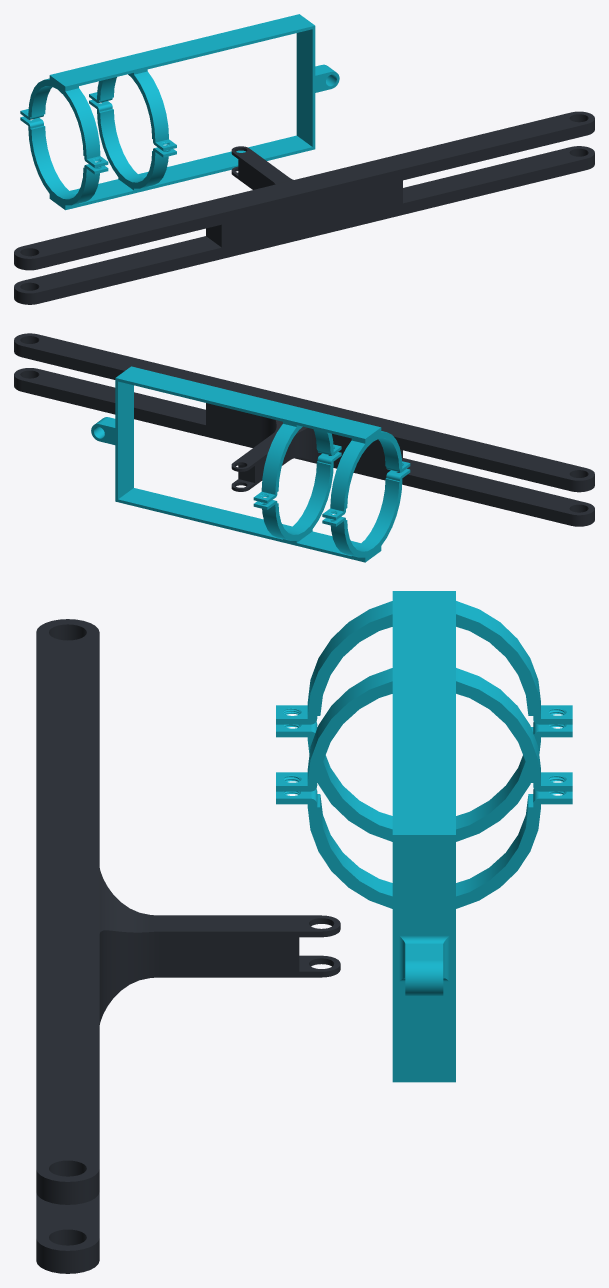
Rendered from Flashlight Drone Propeller Bracket Segmented.glb.
The picture shows the model from 3 angles, top to bottom: view 1: azimuth 30°, elevation 25°; view 2: azimuth 150°, elevation 25°; view 3: azimuth 270°, elevation 25°; orthographic projection. The views are drawn at different scales.
Parts seen in each view (by area): view 1: Flashlight Drone Propeller Bracket Segmented; view 2: Flashlight Drone Propeller Bracket Segmented; view 3: Flashlight Drone Propeller Bracket Segmented.
Part boxes in pixels (x1=…): Flashlight Drone Propeller Bracket Segmented: x1=14, y1=14, x2=594, y2=304; Flashlight Drone Propeller Bracket Segmented: x1=14, y1=333, x2=594, y2=562; Flashlight Drone Propeller Bracket Segmented: x1=36, y1=591, x2=572, y2=1273.
Bounding box in the file's own units: 21 × 4.3 × 8.46.
